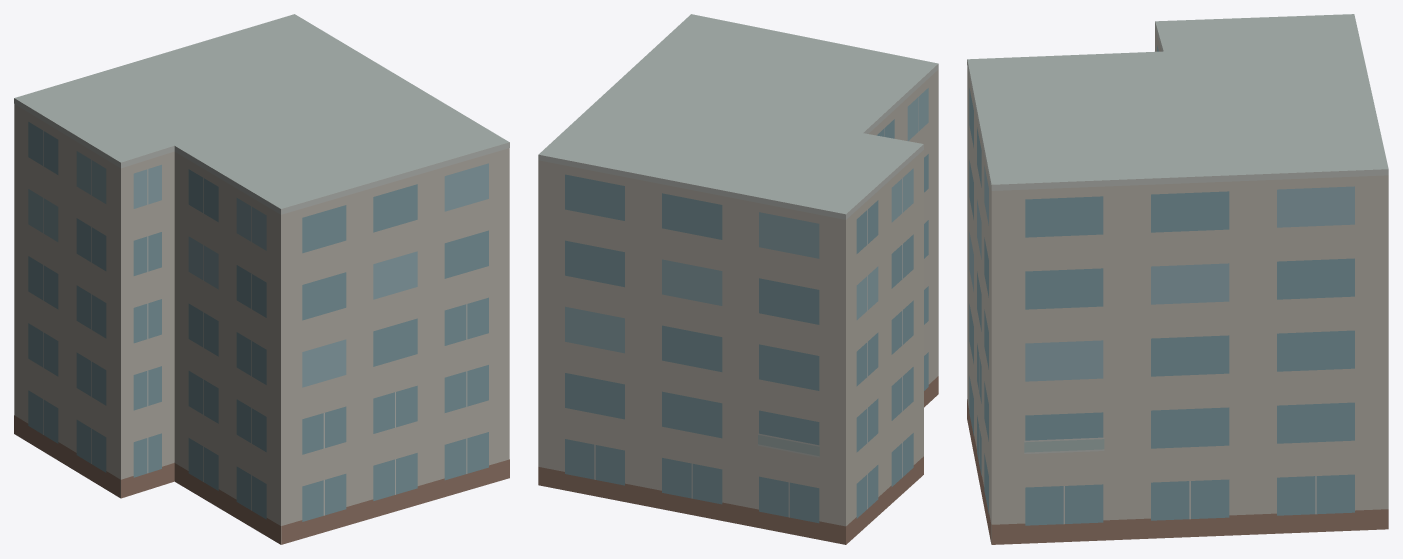
File: survey-upis-33003198.glb
3 renders of one model, left to right at view 1: azimuth 30°, elevation 25°; view 2: azimuth 150°, elevation 25°; view 3: azimuth 270°, elevation 25°, orthographic. The views are drawn at different scales.
Parts seen in each view (by area): view 1: survey-upis-33003198.tmp; view 2: survey-upis-33003198.tmp; view 3: survey-upis-33003198.tmp.
Part boxes in pixels (bbox=[...]): survey-upis-33003198.tmp: bbox=[14, 14, 509, 544]; survey-upis-33003198.tmp: bbox=[538, 14, 938, 544]; survey-upis-33003198.tmp: bbox=[967, 14, 1388, 544].
Size of the model in its own units: 14.56 by 14.3 by 15.18.
